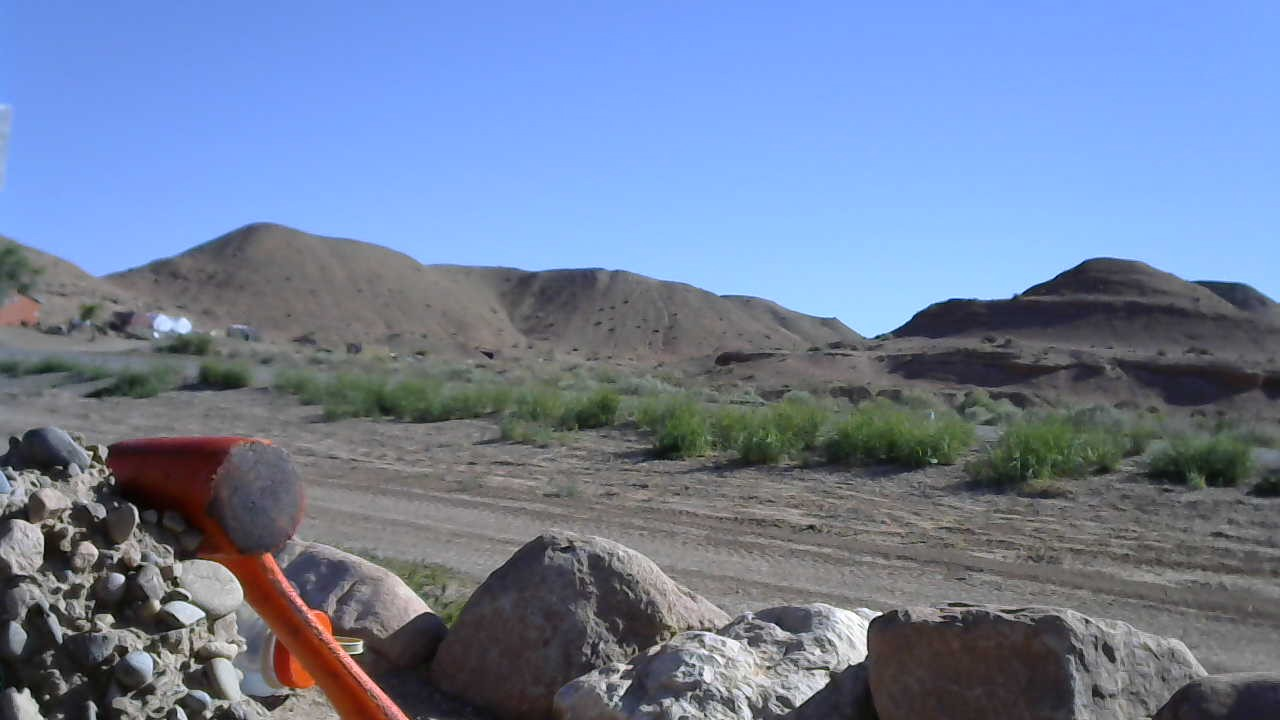bottle: (229, 599, 369, 694)
hammer: (83, 414, 430, 720)
